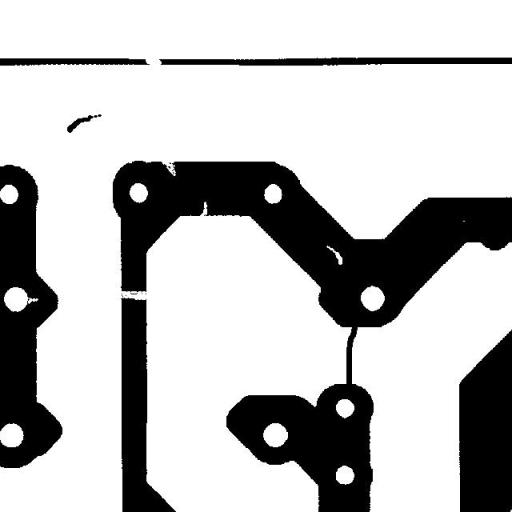copper: (59, 106, 109, 140)
mousebite: (154, 153, 183, 183), (16, 287, 46, 311), (193, 194, 214, 224)
open: (110, 283, 156, 307), (138, 50, 168, 72)
pin-hole: (318, 238, 350, 272)
short: (338, 316, 365, 394)
